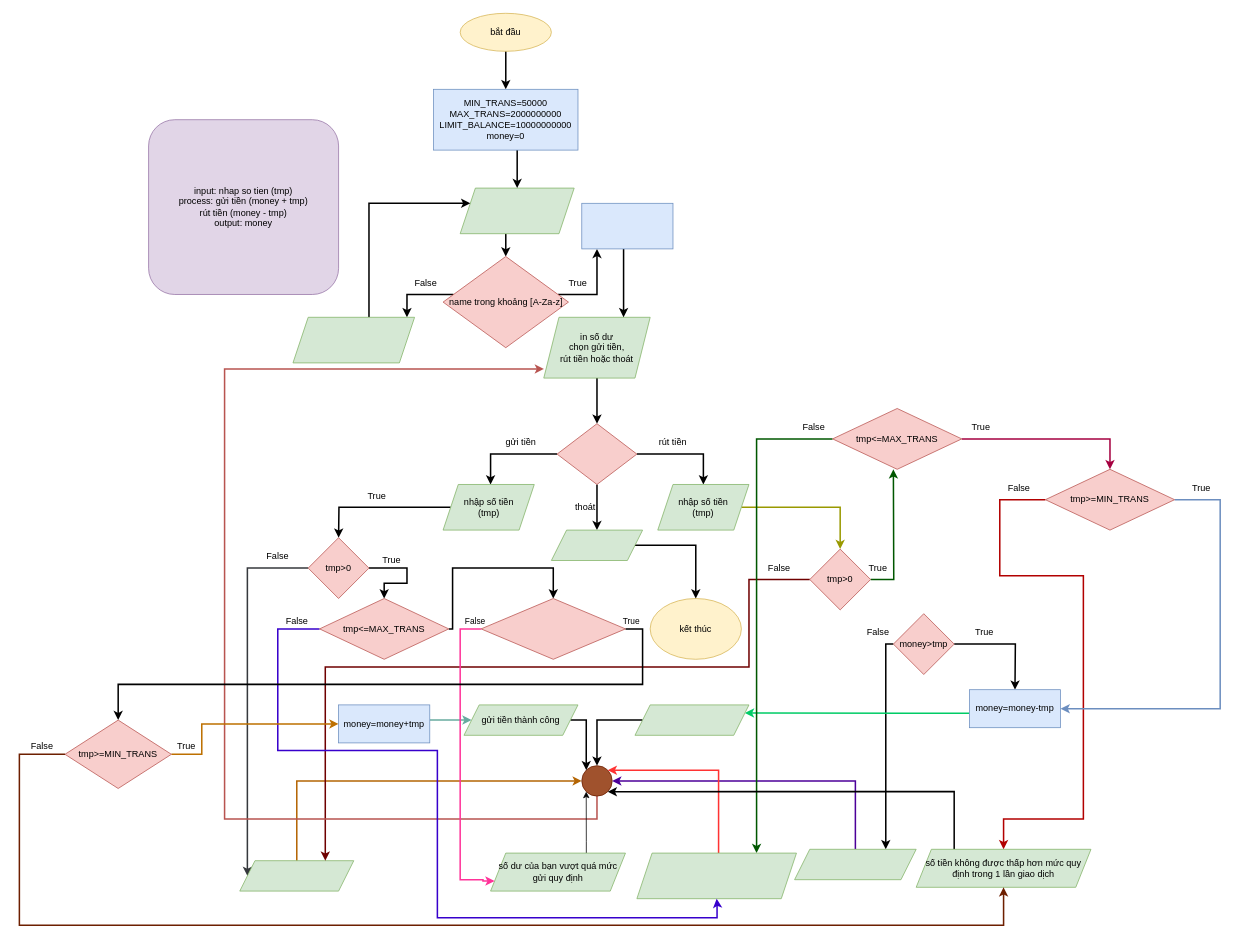
Image size: 1240x945. Some labels were removed from this diagram. Here are the shapes that lost their labels. From the top down, the box of each, then its label:
(459, 187, 574, 234): nhập tên người dùng (name)
(581, 203, 673, 249): in hoa tên riêng
(292, 317, 415, 363): yêu cầu nhập lại tên (name)
(556, 423, 637, 484): lựa chọn
(551, 529, 643, 560): see you later
(480, 598, 625, 659): money+tmp<LIMIT_BALANCE
(634, 704, 749, 735): rút tiền thành công
(239, 860, 354, 891): số tiền phải lớn hơn 0
(636, 852, 796, 899): số tiền không được quá mức quy định trong 1 lần giao dịch
(794, 849, 916, 880): số tiền lớn hơn số dư
